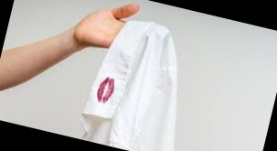lipstick: (94, 70, 118, 109)
